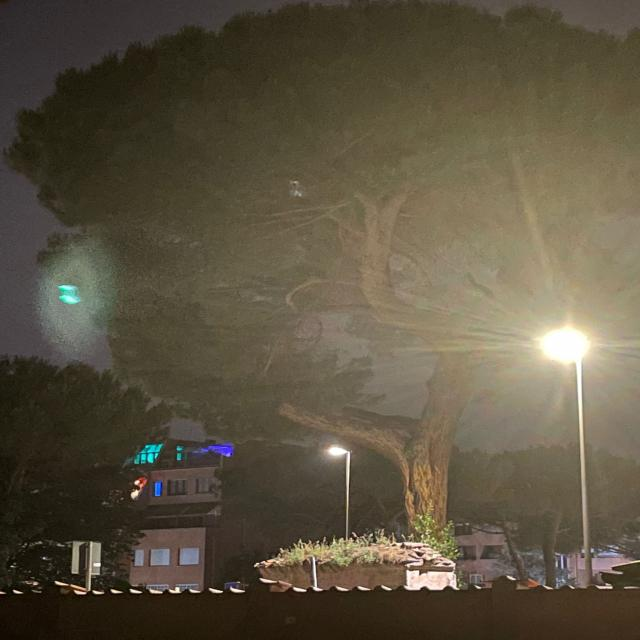lampione: (521, 314, 617, 376), (321, 439, 353, 468)
